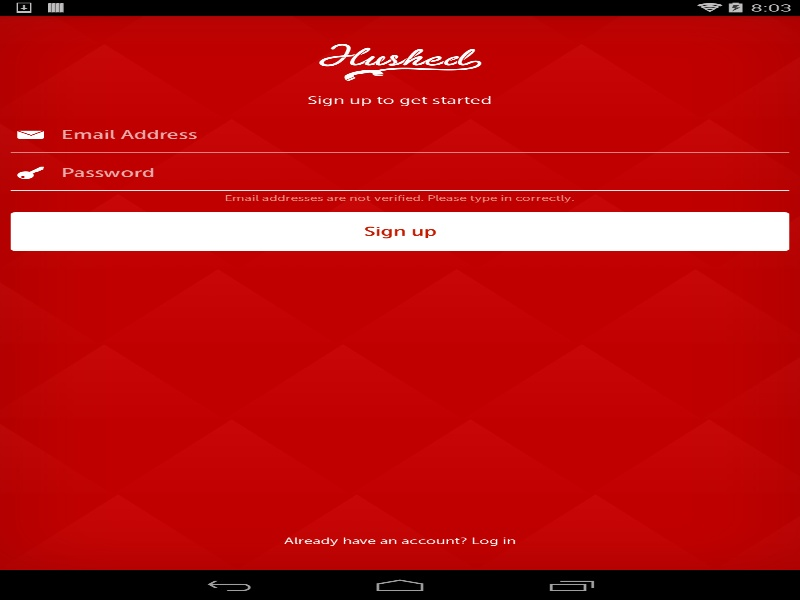Input: (61, 156, 787, 189), (61, 118, 787, 150)
